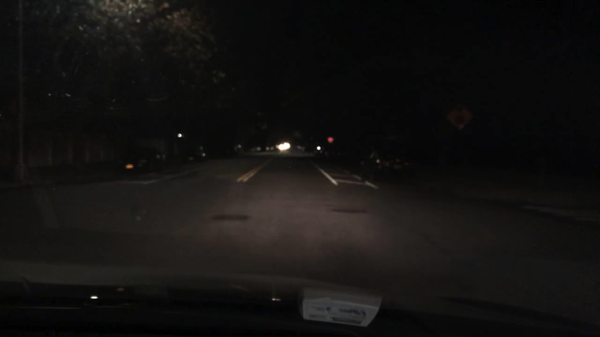car: (357, 140, 413, 184), (113, 147, 155, 176), (182, 142, 208, 163), (313, 145, 344, 161), (149, 147, 167, 170), (227, 144, 244, 154), (279, 142, 291, 151), (252, 145, 263, 153), (265, 145, 275, 152), (297, 145, 307, 151)
traffic sign: (446, 100, 472, 129), (326, 135, 335, 144)
